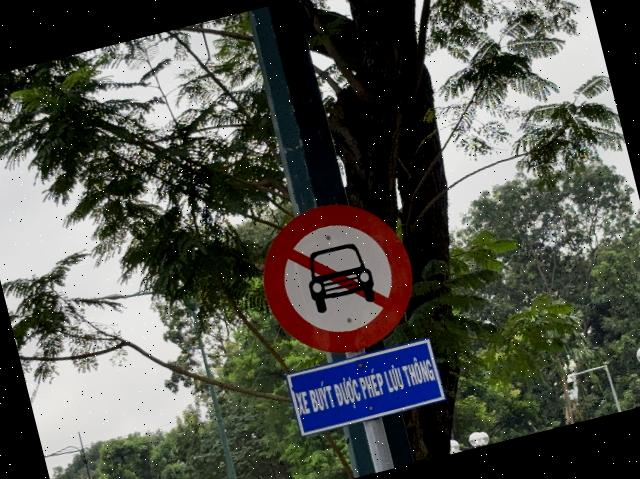cam-o-to: (248, 190, 428, 370)
